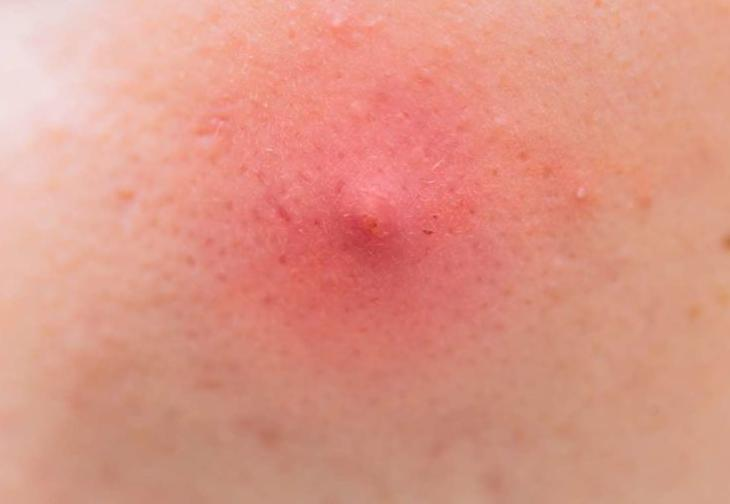Acne: (330, 168, 406, 256)
